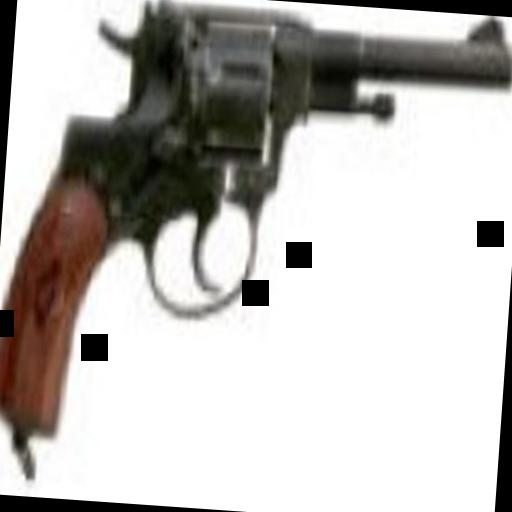Handgun: (0, 0, 512, 454)
